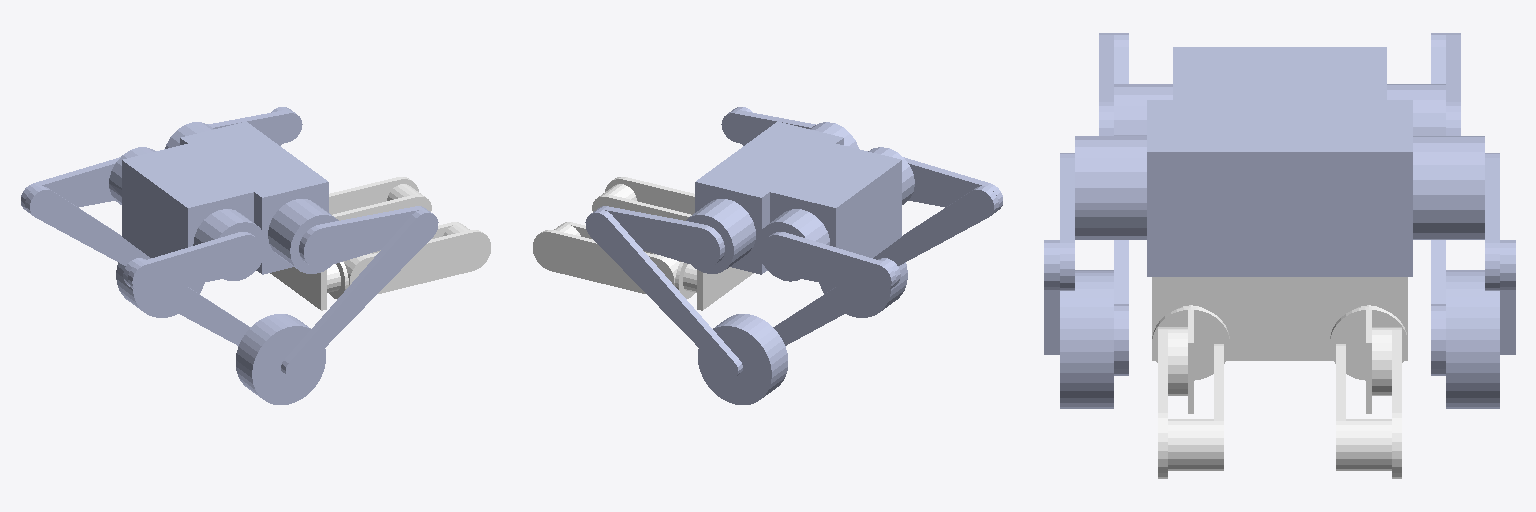
--- Render facts (derived) ---
3 views of the same robot in one strip: view 1: azimuth 30°, elevation 25°; view 2: azimuth 150°, elevation 25°; view 3: azimuth 270°, elevation 25° (orthographic).
Robot: Manipulator_Vlink2 — 20 links, 19 joints (18 continuous, 1 fixed); root link base_link; default pose: all joints at 0.
Visible links, largest first — view 1: base_link, thigh2leg_rf, leg2wheel_rf, hip2thigh_rb, hip2thigh_rf, r1, thigh2leg_lb, thigh2leg_rb, hip2thigh_lb, armbase, l1, hip2thigh_lf (+2 smaller); view 2: base_link, thigh2leg_lf, leg2wheel_lf, hip2thigh_lb, hip2thigh_lf, l1, thigh2leg_rb, thigh2leg_lb, hip2thigh_rb, armbase, r1, hip2thigh_rf (+2 smaller); view 3: base_link, armbase, leg2wheel_rf, leg2wheel_lf, r2, l2, l0, r0, r1, l1, thigh2leg_lb, thigh2leg_rb (+7 smaller).
Boxes of the visible links, x1,y1,x2,y2 form: base_link: (109,121,338,280); thigh2leg_rf: (281,210,438,377); leg2wheel_rf: (236,314,325,404); hip2thigh_rb: (128,232,262,293); hip2thigh_rf: (299,206,426,267); r1: (344,230,490,293); thigh2leg_lb: (25,186,191,287); thigh2leg_rb: (123,258,250,345); hip2thigh_lb: (21,157,120,212); armbase: (270,264,340,310); l1: (329,177,418,214); hip2thigh_lf: (208,110,302,144); base_link: (686,122,914,281); thigh2leg_lf: (585,210,742,377); leg2wheel_lf: (698,314,787,404); hip2thigh_lb: (761,232,895,293); hip2thigh_lf: (597,206,724,267); l1: (533,230,679,293); thigh2leg_rb: (832,186,998,287); thigh2leg_lb: (773,258,900,345); hip2thigh_rb: (904,157,1002,212); armbase: (683,264,753,310); r1: (605,177,694,214); hip2thigh_rf: (721,110,815,144); base_link: (1075,47,1484,276); armbase: (1152,277,1407,360); leg2wheel_rf: (1060,270,1113,408); leg2wheel_lf: (1446,270,1499,408); r2: (1168,344,1223,470); l2: (1336,344,1391,470); l0: (1330,307,1407,413); r0: (1152,307,1229,413); r1: (1158,327,1187,478); l1: (1372,327,1401,478); thigh2leg_lb: (1431,33,1445,375); thigh2leg_rb: (1114,33,1128,375).
Size in the robot's own frame: 0.5395 by 0.36 by 0.2553 metres.
20 mesh visuals loaded from 20 distinct referenced files (20 binary STL).

URDF robot description (Manipulator_Vlink2):
<?xml version="1.0" encoding="utf-8"?>
<!-- This URDF was automatically created by SolidWorks to URDF Exporter! Originally created by Stephen Brawner ([email redacted]) 
     Commit Version: 1.6.0-1-g15f4949  Build Version: 1.6.7594.29634
     For more information, please see http://wiki.ros.org/sw_urdf_exporter -->
<robot
  name="Manipulator_Vlink2">
  <link
    name="base_link">
    <inertial>
      <origin
        xyz="7.26897419825618E-18 3.64890254428675E-18 -2.4772664067657E-18"
        rpy="0 0 0" />
      <mass
        value="4.563502045004" />
      <inertia
        ixx="0.0280984473320404"
        ixy="7.92285736359658E-17"
        ixz="4.9277286577983E-20"
        iyy="0.0169477927066625"
        iyz="1.08880015646914E-18"
        izz="0.0376783082336192" />
    </inertial>
    <visual>
      <origin
        xyz="0 0 0"
        rpy="0 0 0" />
      <geometry>
        <mesh
          filename="package://Manipulator_Vlink2/meshes/base_link.STL" />
      </geometry>
      <material
        name="">
        <color
          rgba="0.792156862745098 0.819607843137255 0.933333333333333 1" />
      </material>
    </visual>
    <collision>
      <origin
        xyz="0 0 0"
        rpy="0 0 0" />
      <geometry>
        <mesh
          filename="package://Manipulator_Vlink2/meshes/base_link.STL" />
      </geometry>
    </collision>
  </link>
  <link
    name="hip2thigh_lf">
    <inertial>
      <origin
        xyz="6.17638775413905E-18 -0.0614074661588189 -0.00575000000000156"
        rpy="0 0 0" />
      <mass
        value="0.0599999613849592" />
      <inertia
        ixx="0.000155906508351339"
        ixy="2.94476214864048E-21"
        ixz="-9.35046804636312E-21"
        iyy="1.13512134874171E-05"
        iyz="-7.895302478684E-19"
        izz="0.000165935222689896" />
    </inertial>
    <visual>
      <origin
        xyz="0 0 0"
        rpy="0 0 0" />
      <geometry>
        <mesh
          filename="package://Manipulator_Vlink2/meshes/hip2thigh_lf.STL" />
      </geometry>
      <material
        name="">
        <color
          rgba="0.792156862745098 0.819607843137255 0.933333333333333 1" />
      </material>
    </visual>
    <collision>
      <origin
        xyz="0 0 0"
        rpy="0 0 0" />
      <geometry>
        <mesh
          filename="package://Manipulator_Vlink2/meshes/hip2thigh_lf.STL" />
      </geometry>
    </collision>
  </link>
  <joint
    name="hip_lf"
    type="continuous">
    <origin
      xyz="0.0424247110394242 0.156999999999999 0"
      rpy="1.5707963267949 -1.5707963267949 0" />
    <parent
      link="base_link" />
    <child
      link="hip2thigh_lf" />
    <axis
      xyz="0 0 1" />
  </joint>
  <link
    name="thigh2leg_lf">
    <inertial>
      <origin
        xyz="0 -0.10564758516642 -0.00575000000000064"
        rpy="0 0 0" />
      <mass
        value="0.0763000411167859" />
      <inertia
        ixx="0.000437218386664755"
        ixy="3.9387032047325E-20"
        ixz="1.95072209959967E-20"
        iyy="7.44363321133751E-06"
        iyz="1.46010727006436E-18"
        izz="0.000442980239803143" />
    </inertial>
    <visual>
      <origin
        xyz="0 0 0"
        rpy="0 0 0" />
      <geometry>
        <mesh
          filename="package://Manipulator_Vlink2/meshes/thigh2leg_lf.STL" />
      </geometry>
      <material
        name="">
        <color
          rgba="0.792156862745098 0.819607843137255 0.933333333333333 1" />
      </material>
    </visual>
    <collision>
      <origin
        xyz="0 0 0"
        rpy="0 0 0" />
      <geometry>
        <mesh
          filename="package://Manipulator_Vlink2/meshes/thigh2leg_lf.STL" />
      </geometry>
    </collision>
  </link>
  <joint
    name="knee_lf"
    type="continuous">
    <origin
      xyz="0 -0.14 -0.011500000000001"
      rpy="0 0 -2.46746214692248" />
    <parent
      link="hip2thigh_lf" />
    <child
      link="thigh2leg_lf" />
    <axis
      xyz="0 0 1" />
  </joint>
  <link
    name="leg2wheel_lf">
    <inertial>
      <origin
        xyz="6.41847686111419E-17 -8.32667268468867E-17 0.0207499999999986"
        rpy="0 0 0" />
      <mass
        value="0.521949966745835" />
      <inertia
        ixx="0.000441450058332931"
        ixy="-5.0821976835258E-21"
        ixz="2.07466425242616E-18"
        iyy="0.000441450058332931"
        iyz="-3.38231691806901E-20"
        izz="0.000733078728294525" />
    </inertial>
    <visual>
      <origin
        xyz="0 0 0"
        rpy="0 0 0" />
      <geometry>
        <mesh
          filename="package://Manipulator_Vlink2/meshes/leg2wheel_lf.STL" />
      </geometry>
      <material
        name="">
        <color
          rgba="0.792156862745098 0.819607843137255 0.933333333333333 1" />
      </material>
    </visual>
    <collision>
      <origin
        xyz="0 0 0"
        rpy="0 0 0" />
      <geometry>
        <mesh
          filename="package://Manipulator_Vlink2/meshes/leg2wheel_lf.STL" />
      </geometry>
    </collision>
  </link>
  <joint
    name="foot_lf"
    type="continuous">
    <origin
      xyz="0 -0.24 0"
      rpy="0 0 0.827377338905804" />
    <parent
      link="thigh2leg_lf" />
    <child
      link="leg2wheel_lf" />
    <axis
      xyz="0 0 1" />
  </joint>
  <link
    name="hip2thigh_lb">
    <inertial>
      <origin
        xyz="-2.49919468130297E-18 -0.061407466158819 -0.0057500000000007"
        rpy="0 0 0" />
      <mass
        value="0.0539995474696858" />
      <inertia
        ixx="0.000140314771946862"
        ixy="-7.37238832554498E-21"
        ixz="6.14097015851312E-21"
        iyy="1.02160131007346E-05"
        iyz="6.95261465638179E-19"
        izz="0.000149340545022119" />
    </inertial>
    <visual>
      <origin
        xyz="0 0 0"
        rpy="0 0 0" />
      <geometry>
        <mesh
          filename="package://Manipulator_Vlink2/meshes/hip2thigh_lb.STL" />
      </geometry>
      <material
        name="">
        <color
          rgba="0.792156862745098 0.819607843137255 0.933333333333333 1" />
      </material>
    </visual>
    <collision>
      <origin
        xyz="0 0 0"
        rpy="0 0 0" />
      <geometry>
        <mesh
          filename="package://Manipulator_Vlink2/meshes/hip2thigh_lb.STL" />
      </geometry>
    </collision>
  </link>
  <joint
    name="hip_lb"
    type="continuous">
    <origin
      xyz="-0.0525752889605756 0.126999999999999 0"
      rpy="1.5707963267949 1.5707963267949 0" />
    <parent
      link="base_link" />
    <child
      link="hip2thigh_lb" />
    <axis
      xyz="0 0 1" />
  </joint>
  <link
    name="thigh2leg_lb">
    <inertial>
      <origin
        xyz="2.77555756156289E-17 -0.126725289376484 0.00574999999999845"
        rpy="0 0 0" />
      <mass
        value="0.0750000161747868" />
      <inertia
        ixx="0.000553987900915235"
        ixy="-6.69156028330897E-20"
        ixz="1.65162413828475E-20"
        iyy="9.43756802822456E-06"
        iyz="-3.30067017119004E-18"
        izz="0.00056177234358694" />
    </inertial>
    <visual>
      <origin
        xyz="0 0 0"
        rpy="0 0 0" />
      <geometry>
        <mesh
          filename="package://Manipulator_Vlink2/meshes/thigh2leg_lb.STL" />
      </geometry>
      <material
        name="">
        <color
          rgba="0.792156862745098 0.819607843137255 0.933333333333333 1" />
      </material>
    </visual>
    <collision>
      <origin
        xyz="0 0 0"
        rpy="0 0 0" />
      <geometry>
        <mesh
          filename="package://Manipulator_Vlink2/meshes/thigh2leg_lb.STL" />
      </geometry>
    </collision>
  </link>
  <joint
    name="knee_lb"
    type="continuous">
    <origin
      xyz="0 -0.14 0"
      rpy="0 0 2.46746214692248" />
    <parent
      link="hip2thigh_lb" />
    <child
      link="thigh2leg_lb" />
    <axis
      xyz="0 0 1" />
  </joint>
  <link
    name="leg2wheel_lb">
    <inertial>
      <origin
        xyz="-1.15359111152458E-16 -5.55111512312578E-17 -0.0207500000000007"
        rpy="0 0 0" />
      <mass
        value="0.521949966745835" />
      <inertia
        ixx="0.000441450058332931"
        ixy="-6.7762635780344E-21"
        ixz="2.07466425242616E-18"
        iyy="0.000441450058332931"
        iyz="-3.38231691806901E-20"
        izz="0.000733078728294525" />
    </inertial>
    <visual>
      <origin
        xyz="0 0 0"
        rpy="0 0 0" />
      <geometry>
        <mesh
          filename="package://Manipulator_Vlink2/meshes/leg2wheel_lb.STL" />
      </geometry>
      <material
        name="">
        <color
          rgba="0.792156862745098 0.819607843137255 0.933333333333333 1" />
      </material>
    </visual>
    <collision>
      <origin
        xyz="0 0 0"
        rpy="0 0 0" />
      <geometry>
        <mesh
          filename="package://Manipulator_Vlink2/meshes/leg2wheel_lb.STL" />
      </geometry>
    </collision>
  </link>
  <joint
    name="foot_lb"
    type="continuous">
    <origin
      xyz="0 -0.24 0"
      rpy="0 0 -0.965954301349358" />
    <parent
      link="thigh2leg_lb" />
    <child
      link="leg2wheel_lb" />
    <axis
      xyz="0 0 1" />
  </joint>
  <link
    name="hip2thigh_rf">
    <inertial>
      <origin
        xyz="3.85525815338172E-18 -0.061407466158819 0.00575000000000089"
        rpy="0 0 0" />
      <mass
        value="0.0599999613849593" />
      <inertia
        ixx="0.000155906508351339"
        ixy="9.7737052169007E-21"
        ixz="3.73574741794125E-24"
        iyy="1.13512134874171E-05"
        iyz="-1.08504933903155E-18"
        izz="0.000165935222689896" />
    </inertial>
    <visual>
      <origin
        xyz="0 0 0"
        rpy="0 0 0" />
      <geometry>
        <mesh
          filename="package://Manipulator_Vlink2/meshes/hip2thigh_rf.STL" />
      </geometry>
      <material
        name="">
        <color
          rgba="0.792156862745098 0.819607843137255 0.933333333333333 1" />
      </material>
    </visual>
    <collision>
      <origin
        xyz="0 0 0"
        rpy="0 0 0" />
      <geometry>
        <mesh
          filename="package://Manipulator_Vlink2/meshes/hip2thigh_rf.STL" />
      </geometry>
    </collision>
  </link>
  <joint
    name="hip_rf"
    type="continuous">
    <origin
      xyz="0.0424247110394264 -0.156999999999998 0"
      rpy="1.5707963267949 -1.5707963267949 0" />
    <parent
      link="base_link" />
    <child
      link="hip2thigh_rf" />
    <axis
      xyz="0 0 1" />
  </joint>
  <link
    name="thigh2leg_rf">
    <inertial>
      <origin
        xyz="2.77555756156289E-17 -0.10564758516642 0.00575000000000223"
        rpy="0 0 0" />
      <mass
        value="0.0763000411167858" />
      <inertia
        ixx="0.000437218386664754"
        ixy="-3.64224167319349E-20"
        ixz="2.47536067446951E-20"
        iyy="7.44363321133754E-06"
        iyz="2.37295512587168E-18"
        izz="0.000442980239803142" />
    </inertial>
    <visual>
      <origin
        xyz="0 0 0"
        rpy="0 0 0" />
      <geometry>
        <mesh
          filename="package://Manipulator_Vlink2/meshes/thigh2leg_rf.STL" />
      </geometry>
      <material
        name="">
        <color
          rgba="0.792156862745098 0.819607843137255 0.933333333333333 1" />
      </material>
    </visual>
    <collision>
      <origin
        xyz="0 0 0"
        rpy="0 0 0" />
      <geometry>
        <mesh
          filename="package://Manipulator_Vlink2/meshes/thigh2leg_rf.STL" />
      </geometry>
    </collision>
  </link>
  <joint
    name="knee_rf"
    type="continuous">
    <origin
      xyz="0 -0.14 0.0114999999999986"
      rpy="0 0 -2.46746214692248" />
    <parent
      link="hip2thigh_rf" />
    <child
      link="thigh2leg_rf" />
    <axis
      xyz="0 0 1" />
  </joint>
  <link
    name="leg2wheel_rf">
    <inertial>
      <origin
        xyz="5.55111512312578E-17 -1.2490009027033E-16 -0.0207499999999983"
        rpy="0 0 0" />
      <mass
        value="0.521949966745835" />
      <inertia
        ixx="0.00044145005833293"
        ixy="-6.7762635780344E-20"
        ixz="-9.00265480038554E-19"
        iyy="0.00044145005833293"
        iyz="1.86202171434693E-18"
        izz="0.000733078728294525" />
    </inertial>
    <visual>
      <origin
        xyz="0 0 0"
        rpy="0 0 0" />
      <geometry>
        <mesh
          filename="package://Manipulator_Vlink2/meshes/leg2wheel_rf.STL" />
      </geometry>
      <material
        name="">
        <color
          rgba="0.792156862745098 0.819607843137255 0.933333333333333 1" />
      </material>
    </visual>
    <collision>
      <origin
        xyz="0 0 0"
        rpy="0 0 0" />
      <geometry>
        <mesh
          filename="package://Manipulator_Vlink2/meshes/leg2wheel_rf.STL" />
      </geometry>
    </collision>
  </link>
  <joint
    name="foot_rf"
    type="continuous">
    <origin
      xyz="0 -0.24 0"
      rpy="0 0 -1.15869988791543" />
    <parent
      link="thigh2leg_rf" />
    <child
      link="leg2wheel_rf" />
    <axis
      xyz="0 0 1" />
  </joint>
  <link
    name="hip2thigh_rb">
    <inertial>
      <origin
        xyz="2.52390274270346E-18 -0.0614074661588188 0.0057500000000017"
        rpy="0 0 0" />
      <mass
        value="0.0539995474696858" />
      <inertia
        ixx="0.000140314771946862"
        ixy="8.82382472227809E-21"
        ixz="-8.22543354868638E-23"
        iyy="1.02160131007346E-05"
        iyz="9.67149836408586E-19"
        izz="0.000149340545022119" />
    </inertial>
    <visual>
      <origin
        xyz="0 0 0"
        rpy="0 0 0" />
      <geometry>
        <mesh
          filename="package://Manipulator_Vlink2/meshes/hip2thigh_rb.STL" />
      </geometry>
      <material
        name="">
        <color
          rgba="0.792156862745098 0.819607843137255 0.933333333333333 1" />
      </material>
    </visual>
    <collision>
      <origin
        xyz="0 0 0"
        rpy="0 0 0" />
      <geometry>
        <mesh
          filename="package://Manipulator_Vlink2/meshes/hip2thigh_rb.STL" />
      </geometry>
    </collision>
  </link>
  <joint
    name="hip_rb"
    type="continuous">
    <origin
      xyz="-0.0525752889605738 -0.126999999999999 0"
      rpy="1.5707963267949 1.5707963267949 0" />
    <parent
      link="base_link" />
    <child
      link="hip2thigh_rb" />
    <axis
      xyz="0 0 1" />
  </joint>
  <link
    name="thigh2leg_rb">
    <inertial>
      <origin
        xyz="1.38777878078145E-17 -0.126725289376484 -0.00574999999999939"
        rpy="0 0 0" />
      <mass
        value="0.0750000161747868" />
      <inertia
        ixx="0.000553987900915235"
        ixy="5.88687898341739E-20"
        ixz="3.55063939914085E-20"
        iyy="9.4375680282246E-06"
        iyz="-3.08532383538705E-18"
        izz="0.00056177234358694" />
    </inertial>
    <visual>
      <origin
        xyz="0 0 0"
        rpy="0 0 0" />
      <geometry>
        <mesh
          filename="package://Manipulator_Vlink2/meshes/thigh2leg_rb.STL" />
      </geometry>
      <material
        name="">
        <color
          rgba="0.792156862745098 0.819607843137255 0.933333333333333 1" />
      </material>
    </visual>
    <collision>
      <origin
        xyz="0 0 0"
        rpy="0 0 0" />
      <geometry>
        <mesh
          filename="package://Manipulator_Vlink2/meshes/thigh2leg_rb.STL" />
      </geometry>
    </collision>
  </link>
  <joint
    name="knee_rb"
    type="continuous">
    <origin
      xyz="0 -0.14 0"
      rpy="0 0 2.46746214692248" />
    <parent
      link="hip2thigh_rb" />
    <child
      link="thigh2leg_rb" />
    <axis
      xyz="0 0 1" />
  </joint>
  <link
    name="leg2wheel_rb">
    <inertial>
      <origin
        xyz="-8.32667268468867E-17 1.2490009027033E-16 0.020750000000001"
        rpy="0 0 0" />
      <mass
        value="0.521949966745835" />
      <inertia
        ixx="0.00044145005833293"
        ixy="-6.7762635780344E-20"
        ixz="-9.00265480038554E-19"
        iyy="0.00044145005833293"
        iyz="1.86202171434693E-18"
        izz="0.000733078728294525" />
    </inertial>
    <visual>
      <origin
        xyz="0 0 0"
        rpy="0 0 0" />
      <geometry>
        <mesh
          filename="package://Manipulator_Vlink2/meshes/leg2wheel_rb.STL" />
      </geometry>
      <material
        name="">
        <color
          rgba="0.792156862745098 0.819607843137255 0.933333333333333 1" />
      </material>
    </visual>
    <collision>
      <origin
        xyz="0 0 0"
        rpy="0 0 0" />
      <geometry>
        <mesh
          filename="package://Manipulator_Vlink2/meshes/leg2wheel_rb.STL" />
      </geometry>
    </collision>
  </link>
  <joint
    name="foot_rb"
    type="continuous">
    <origin
      xyz="0 -0.24 0"
      rpy="0 0 -2.95203152817059" />
    <parent
      link="thigh2leg_rb" />
    <child
      link="leg2wheel_rb" />
    <axis
      xyz="0 0 1" />
  </joint>
  <link
    name="r0">
    <inertial>
      <origin
        xyz="-0.014297 -0.0255 -1.8041E-16"
        rpy="0 0 0" />
      <mass
        value="0.032137" />
      <inertia
        ixx="1.1799E-05"
        ixy="7.3681E-20"
        ixz="5.2724E-23"
        iyy="2.2374E-05"
        iyz="-2.3323E-21"
        izz="1.7011E-05" />
    </inertial>
    <visual>
      <origin
        xyz="0 0 0"
        rpy="0 0 0" />
      <geometry>
        <mesh
          filename="package://Manipulator_Vlink2/meshes/r0.STL" />
      </geometry>
      <material
        name="">
        <color
          rgba="1 1 1 1" />
      </material>
    </visual>
    <collision>
      <origin
        xyz="0 0 0"
        rpy="0 0 0" />
      <geometry>
        <mesh
          filename="package://Manipulator_Vlink2/meshes/r0.STL" />
      </geometry>
    </collision>
  </link>
  <joint
    name="r0"
    type="continuous">
    <origin
      xyz="0.15092 -0.0935 -0.0958"
      rpy="3.1416 0 0" />
    <parent
      link="base_link" />
    <child
      link="r0" />
    <axis
      xyz="1 0 0" />
  </joint>
  <link
    name="r1">
    <inertial>
      <origin
        xyz="0.053294 0.0073283 1.3878E-17"
        rpy="0 0 0" />
      <mass
        value="0.232" />
      <inertia
        ixx="2.796E-05"
        ixy="2.0282E-05"
        ixz="-3.5676E-20"
        iyy="0.00041328"
        iyz="1.3707E-21"
        izz="0.00039365" />
    </inertial>
    <visual>
      <origin
        xyz="0 0 0"
        rpy="0 0 0" />
      <geometry>
        <mesh
          filename="package://Manipulator_Vlink2/meshes/r1.STL" />
      </geometry>
      <material
        name="">
        <color
          rgba="1 1 1 1" />
      </material>
    </visual>
    <collision>
      <origin
        xyz="0 0 0"
        rpy="0 0 0" />
      <geometry>
        <mesh
          filename="package://Manipulator_Vlink2/meshes/r1.STL" />
      </geometry>
    </collision>
  </link>
  <joint
    name="r1"
    type="continuous">
    <origin
      xyz="0 0 0"
      rpy="3.1416 0 0" />
    <parent
      link="r0" />
    <child
      link="r1" />
    <axis
      xyz="0 1 0" />
  </joint>
  <link
    name="r2">
    <inertial>
      <origin
        xyz="0.037121 0.013604 0"
        rpy="0 0 0" />
      <mass
        value="0.252" />
      <inertia
        ixx="2.669E-05"
        ixy="3.4523E-05"
        ixz="6.7513E-21"
        iyy="0.00024862"
        iyz="-4.3417E-21"
        izz="0.00025306" />
    </inertial>
    <visual>
      <origin
        xyz="0 0 0"
        rpy="0 0 0" />
      <geometry>
        <mesh
          filename="package://Manipulator_Vlink2/meshes/r2.STL" />
      </geometry>
      <material
        name="">
        <color
          rgba="1 1 1 1" />
      </material>
    </visual>
    <collision>
      <origin
        xyz="0 0 0"
        rpy="0 0 0" />
      <geometry>
        <mesh
          filename="package://Manipulator_Vlink2/meshes/r2.STL" />
      </geometry>
    </collision>
  </link>
  <joint
    name="r2"
    type="continuous">
    <origin
      xyz="0.149999999999999 0.0506800000000009 0"
      rpy="0 0 3.14159265358979" />
    <parent
      link="r1" />
    <child
      link="r2" />
    <axis
      xyz="0 1 0" />
  </joint>
  <link
    name="l0">
    <inertial>
      <origin
        xyz="0.014297 -0.0255 1.249E-16"
        rpy="0 0 0" />
      <mass
        value="0.032137" />
      <inertia
        ixx="1.1799E-05"
        ixy="7.4538E-20"
        ixz="-7.3014E-21"
        iyy="2.2374E-05"
        iyz="1.2061E-21"
        izz="1.7011E-05" />
    </inertial>
    <visual>
      <origin
        xyz="0 0 0"
        rpy="0 0 0" />
      <geometry>
        <mesh
          filename="package://Manipulator_Vlink2/meshes/l0.STL" />
      </geometry>
      <material
        name="">
        <color
          rgba="1 1 1 1" />
      </material>
    </visual>
    <collision>
      <origin
        xyz="0 0 0"
        rpy="0 0 0" />
      <geometry>
        <mesh
          filename="package://Manipulator_Vlink2/meshes/l0.STL" />
      </geometry>
    </collision>
  </link>
  <joint
    name="l0"
    type="continuous">
    <origin
      xyz="0.15092 0.0935 -0.0958"
      rpy="-3.1416 0 3.1416" />
    <parent
      link="base_link" />
    <child
      link="l0" />
    <axis
      xyz="-1 0 0" />
  </joint>
  <link
    name="l1">
    <inertial>
      <origin
        xyz="0.053294 0.0073283 1.3878E-17"
        rpy="0 0 0" />
      <mass
        value="0.232" />
      <inertia
        ixx="2.796E-05"
        ixy="2.0282E-05"
        ixz="-3.6862E-20"
        iyy="0.00041328"
        iyz="1.9362E-21"
        izz="0.00039365" />
    </inertial>
    <visual>
      <origin
        xyz="0 0 0"
        rpy="0 0 0" />
      <geometry>
        <mesh
          filename="package://Manipulator_Vlink2/meshes/l1.STL" />
      </geometry>
      <material
        name="">
        <color
          rgba="1 1 1 1" />
      </material>
    </visual>
    <collision>
      <origin
        xyz="0 0 0"
        rpy="0 0 0" />
      <geometry>
        <mesh
          filename="package://Manipulator_Vlink2/meshes/l1.STL" />
      </geometry>
    </collision>
  </link>
  <joint
    name="l1"
    type="continuous">
    <origin
      xyz="0 0 0"
      rpy="0 0 3.14159265358979" />
    <parent
      link="l0" />
    <child
      link="l1" />
    <axis
      xyz="0 1 0" />
  </joint>
  <link
    name="l2">
    <inertial>
      <origin
        xyz="0.037121 0.013604 0"
        rpy="0 0 0" />
      <mass
        value="0.252" />
      <inertia
        ixx="2.669E-05"
        ixy="3.4523E-05"
        ixz="5.8357E-21"
        iyy="0.00024862"
        iyz="-3.2257E-21"
        izz="0.00025306" />
    </inertial>
    <visual>
      <origin
        xyz="0 0 0"
        rpy="0 0 0" />
      <geometry>
        <mesh
          filename="package://Manipulator_Vlink2/meshes/l2.STL" />
      </geometry>
      <material
        name="">
        <color
          rgba="1 1 1 1" />
      </material>
    </visual>
    <collision>
      <origin
        xyz="0 0 0"
        rpy="0 0 0" />
      <geometry>
        <mesh
          filename="package://Manipulator_Vlink2/meshes/l2.STL" />
      </geometry>
    </collision>
  </link>
  <joint
    name="l2"
    type="continuous">
    <origin
      xyz="0.15 0.0506799999999989 0"
      rpy="0 0 3.14159265358979" />
    <parent
      link="l1" />
    <child
      link="l2" />
    <axis
      xyz="0 1 0" />
  </joint>
  <link
    name="armbase">
    <inertial>
      <origin
        xyz="0 0 0"
        rpy="0 0 0" />
      <mass
        value="0" />
      <inertia
        ixx="0"
        ixy="0"
        ixz="0"
        iyy="0"
        iyz="0"
        izz="0" />
    </inertial>
    <visual>
      <origin
        xyz="0 0 0"
        rpy="0 0 0" />
      <geometry>
        <mesh
          filename="package://Manipulator_Vlink2/meshes/armbase.STL" />
      </geometry>
      <material
        name="">
        <color
          rgba="1 1 1 1" />
      </material>
    </visual>
    <collision>
      <origin
        xyz="0 0 0"
        rpy="0 0 0" />
      <geometry>
        <mesh
          filename="package://Manipulator_Vlink2/meshes/armbase.STL" />
      </geometry>
    </collision>
  </link>
  <joint
    name="nonono"
    type="fixed">
    <origin
      xyz="0.125574711039425 0 -0.0525"
      rpy="1.5707963267949 0 1.5707963267949" />
    <parent
      link="base_link" />
    <child
      link="armbase" />
    <axis
      xyz="0 0 0" />
  </joint>
</robot>
